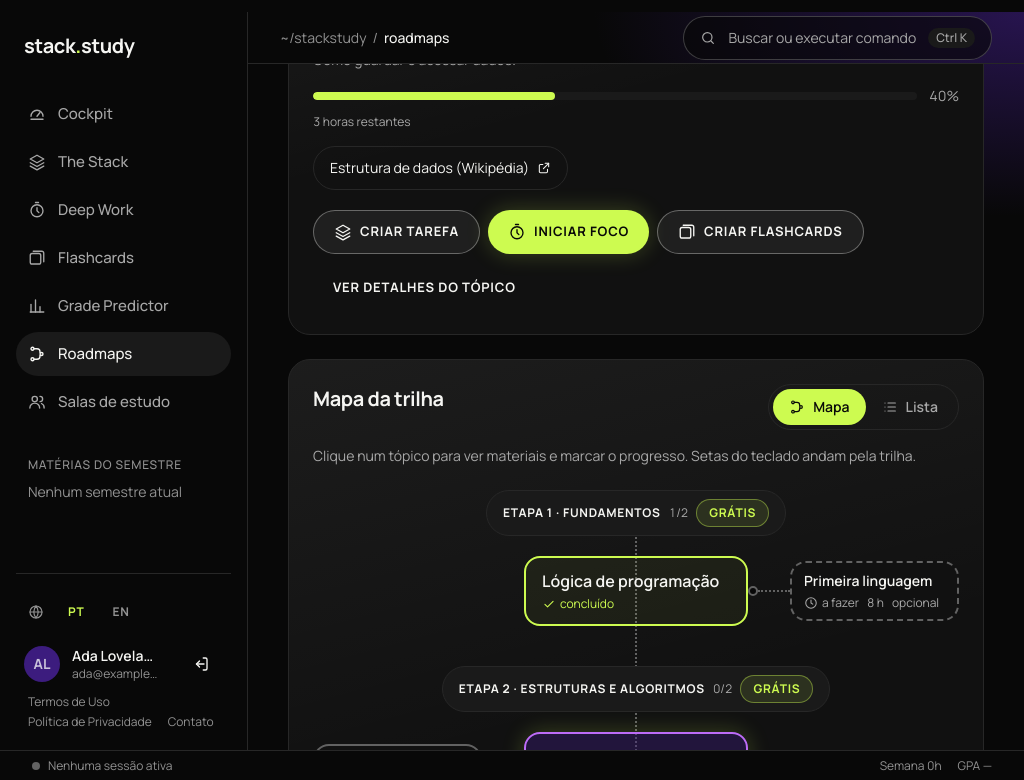
Scenario: Roadmaps › alterna entre Mapa e Lista com as mesmas informações
The image size is (1024, 780).
(page scrolled)
Click the button "Lista".
click(910, 407)  # box [866, 389, 954, 425]
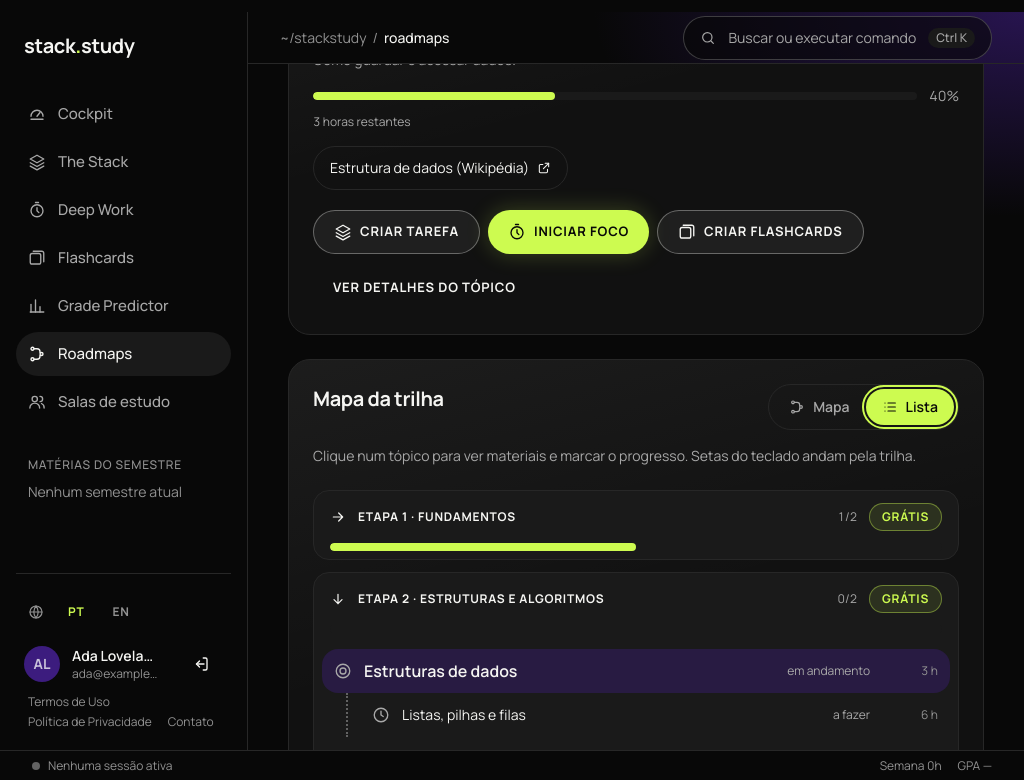
Check: the button "Lista" is pressed, box [866, 389, 954, 425]
Click the button "Etapa 1 · Fundamentos 1/2 Grátis".
click(437, 516)  # box [314, 491, 958, 543]
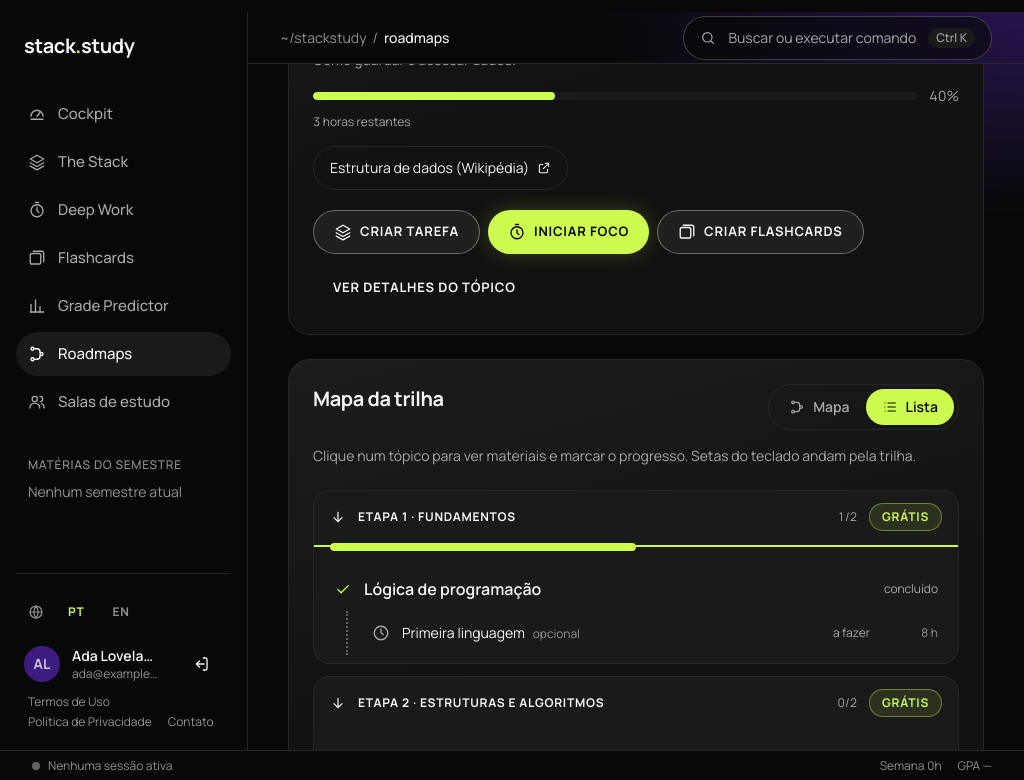
Check: the button with aria-label "Lógica de programação, concluído" is shown, box [322, 567, 950, 611]
